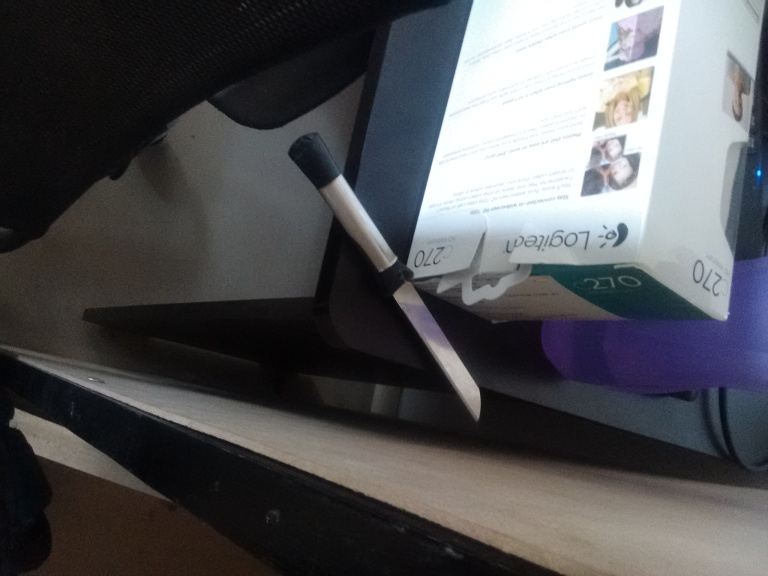knife: (287, 131, 483, 424)
